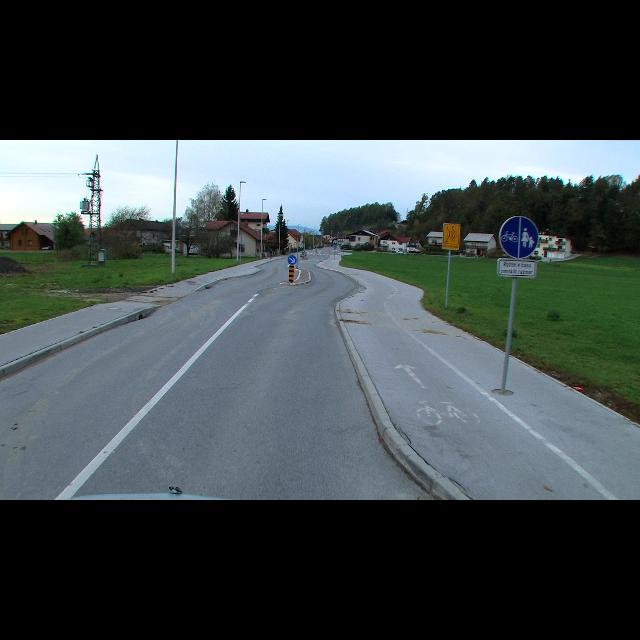Multi-inform: (442, 222, 461, 252)
Rectangle: (497, 259, 537, 277)
Round: (499, 217, 539, 259), (288, 256, 296, 266)
